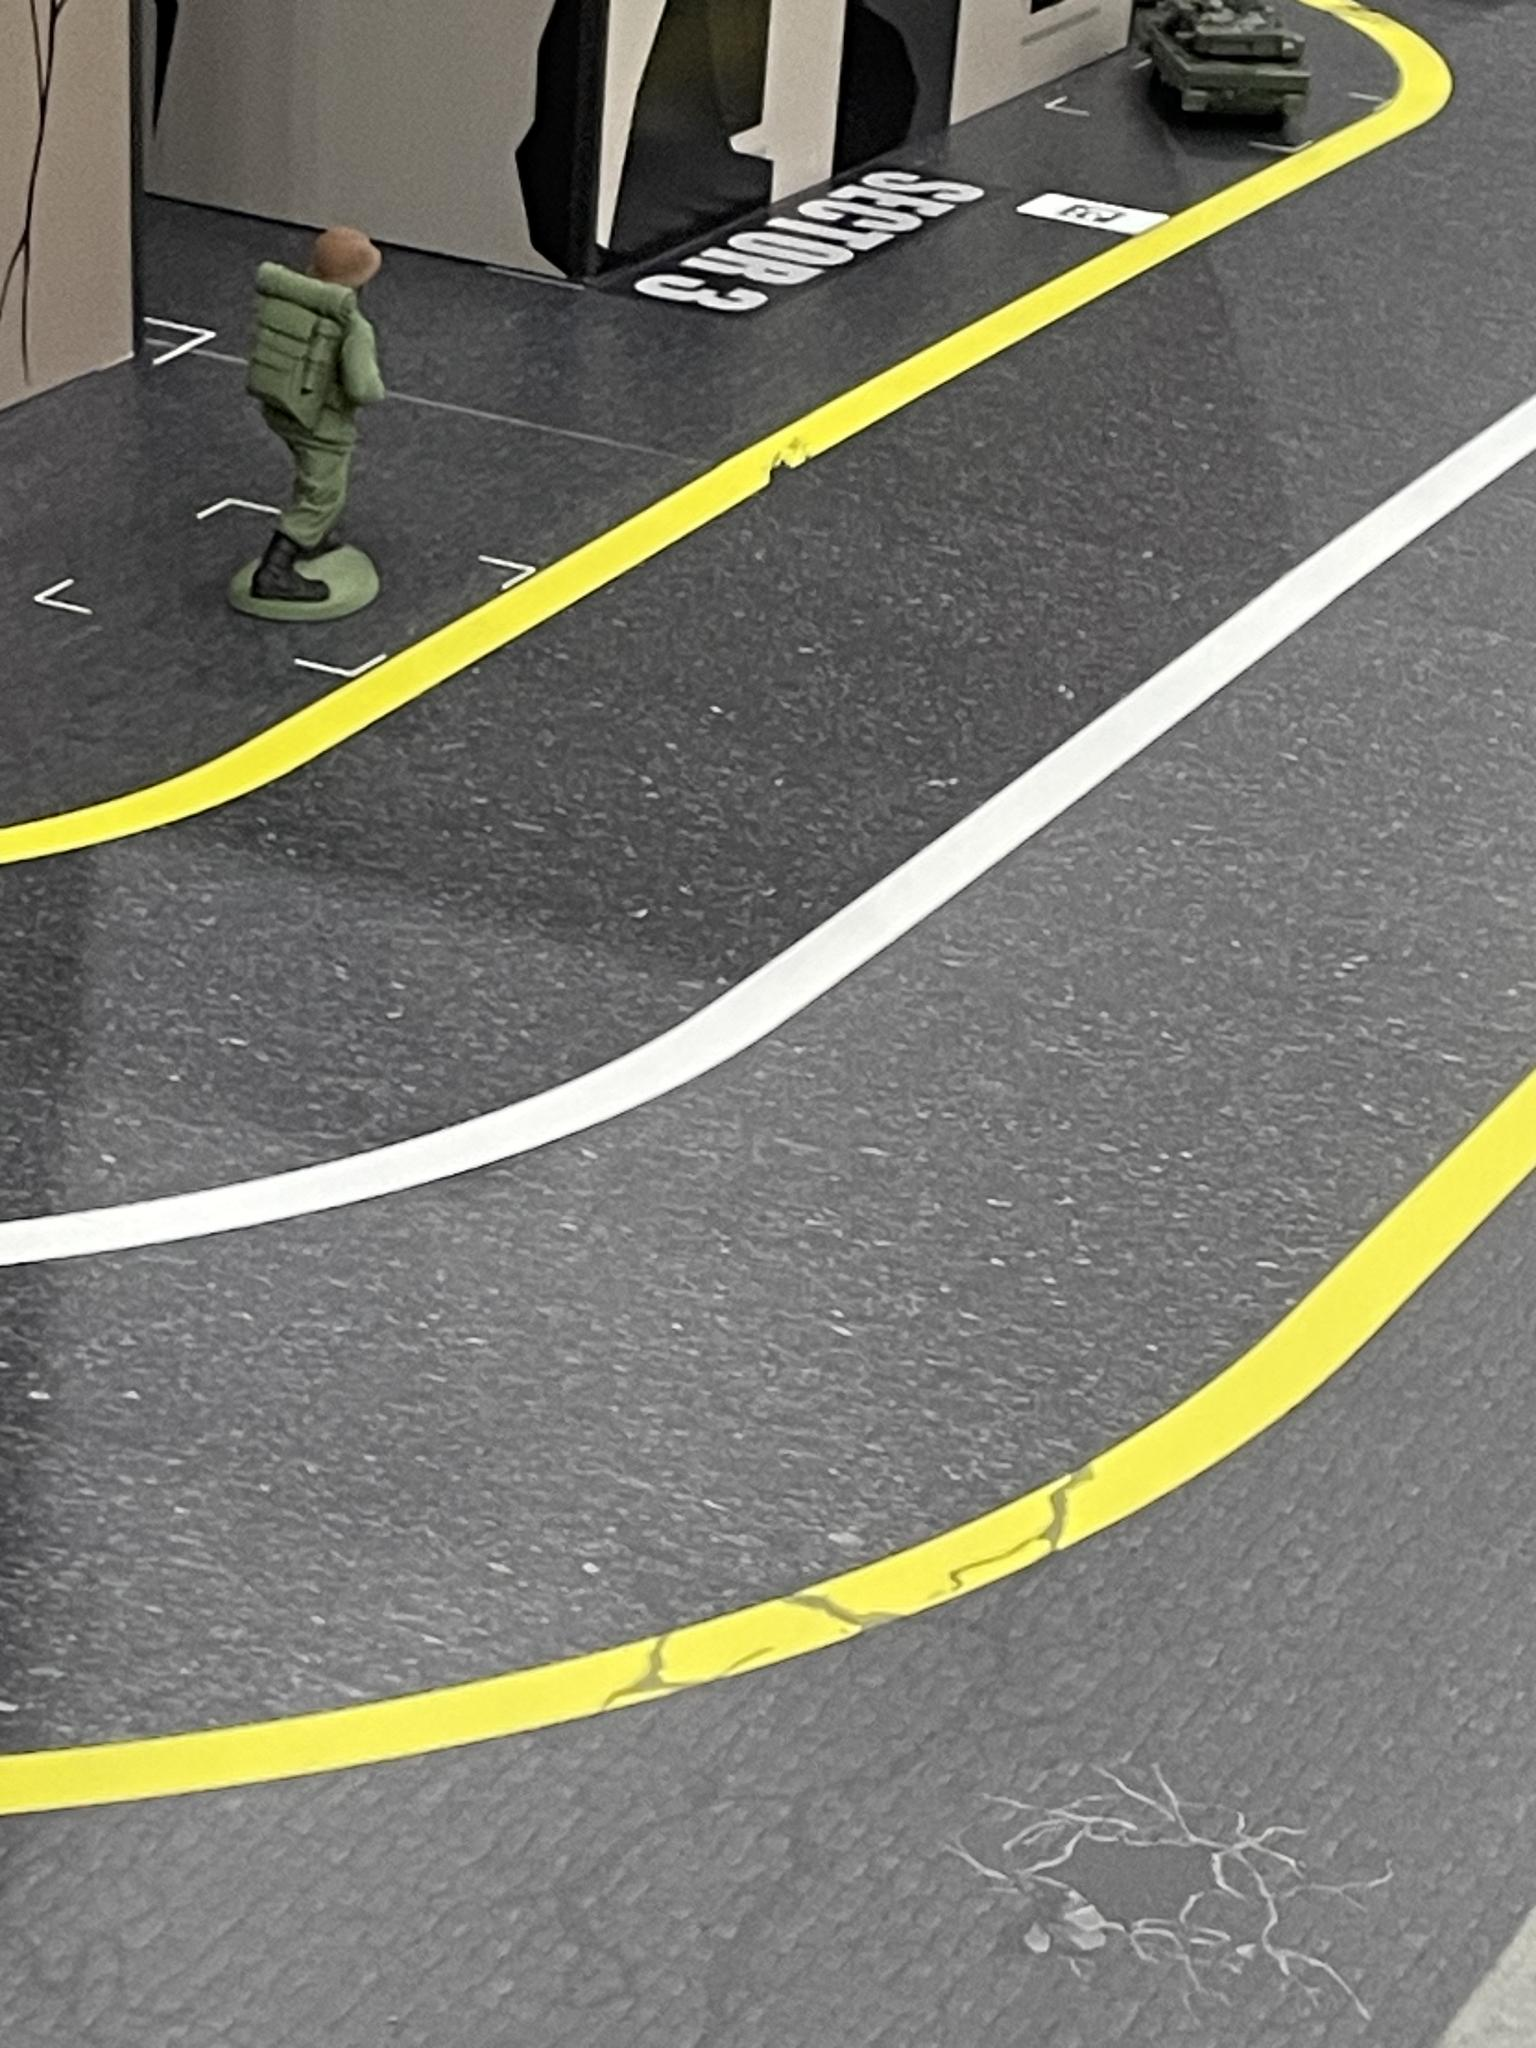Enemy: (218, 218, 394, 635)
Tank: (1120, 0, 1315, 140)
